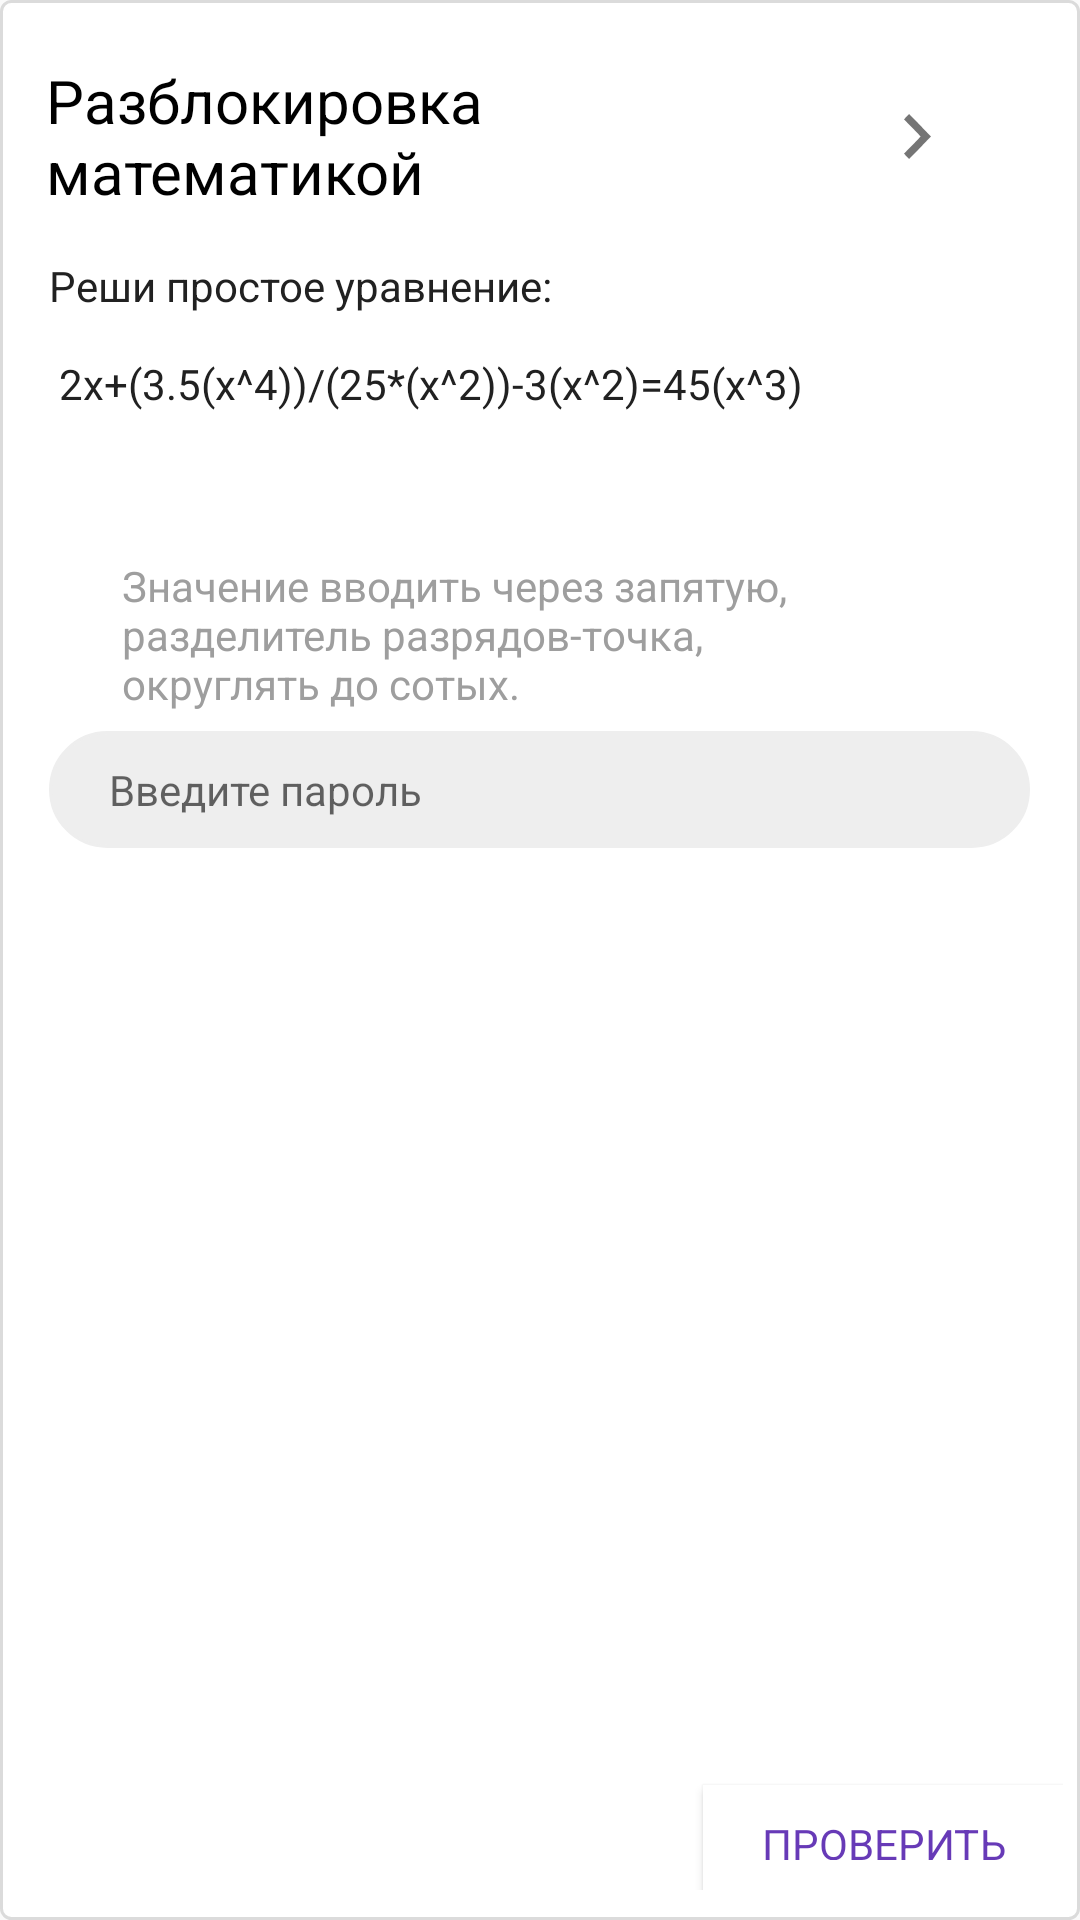

Named icons in this screenshot (1080w x 1920h) and their centers, (x,y):
arrow: (917,136)
